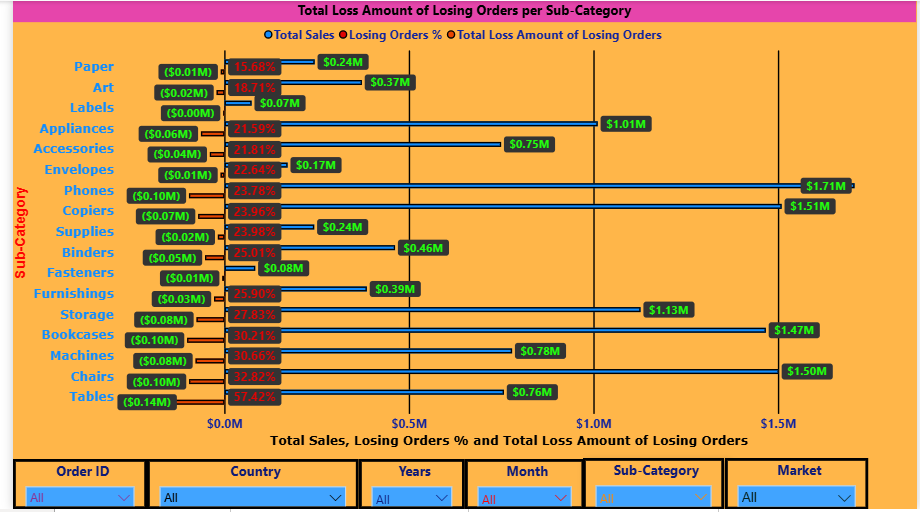

The dashboard page shown, as its layout file describes it:
{"tool":"powerbi","page":{"name":"Page 11 \\ 2 Loss rate per Sub-Category","canvas":[1280,720],"ordinal":11},"visuals":[{"type":"clusteredBarChart","title":"Total Loss Amount of Losing Orders  per Sub-Category","fields":{"Category":["Dim_Product.Sub-Category"],"Y":["fact table Global _ Superstore _ Cleaned.Total Sales","fact table Global _ Superstore _ Cleaned.Losing Orders %","fact table Global _ Superstore _ Cleaned.Total Loss Amount of Losing Orders"]},"box":[0,0,1280,638.6],"z":0},{"type":"slicer","title":"Order ID","fields":{"Values":["fact table Global _ Superstore _ Cleaned.Order ID"]},"box":[0,648.6,190,71.4],"z":1},{"type":"slicer","title":"Country","fields":{"Values":["Dim_Customer.Country"]},"box":[190,648.6,300,71.4],"z":2},{"type":"slicer","title":"Years ","fields":{"Values":["Dim_Date.Year"]},"box":[490,648.6,150,71.4],"z":3},{"type":"slicer","title":"Month","fields":{"Values":["Dim_Date.Month Name","Dim_Date.Month"]},"box":[640,648.6,168.6,71.4],"z":4},{"type":"slicer","title":"Sub-Category","fields":{"Values":["Dim_Product.Sub-Category"]},"box":[808.6,647.1,200,72.9],"z":5},{"type":"slicer","title":"Market","fields":{"Values":["Dim_Customer.Market"]},"box":[1008.6,647.1,202.9,72.9],"z":6}]}

Visuals, with their boxes in screenshot pixels (x1, y1, x2, y2), scaled from the page's 1280x720 canvas onto the 920x512 screenshot:
"Total Loss Amount of Losing Orders  per Sub-Category" clusteredBarChart: 0 0 919 454
"Order ID" slicer: 0 461 137 511
"Country" slicer: 137 461 352 511
"Years " slicer: 352 461 460 511
"Month" slicer: 460 461 581 511
"Sub-Category" slicer: 581 460 725 511
"Market" slicer: 725 460 871 511
